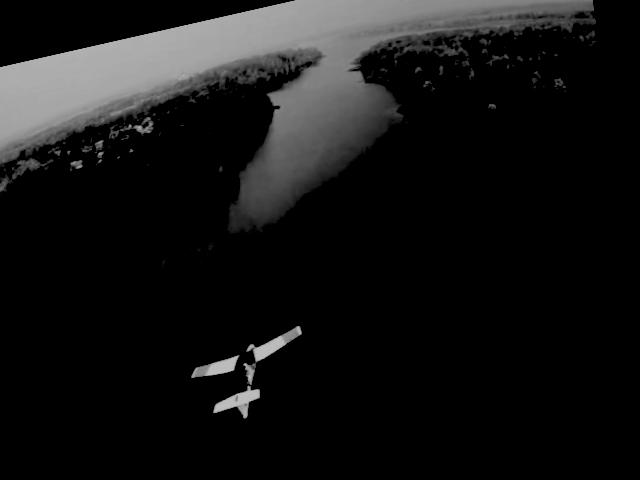hedef: (185, 313, 332, 434)
